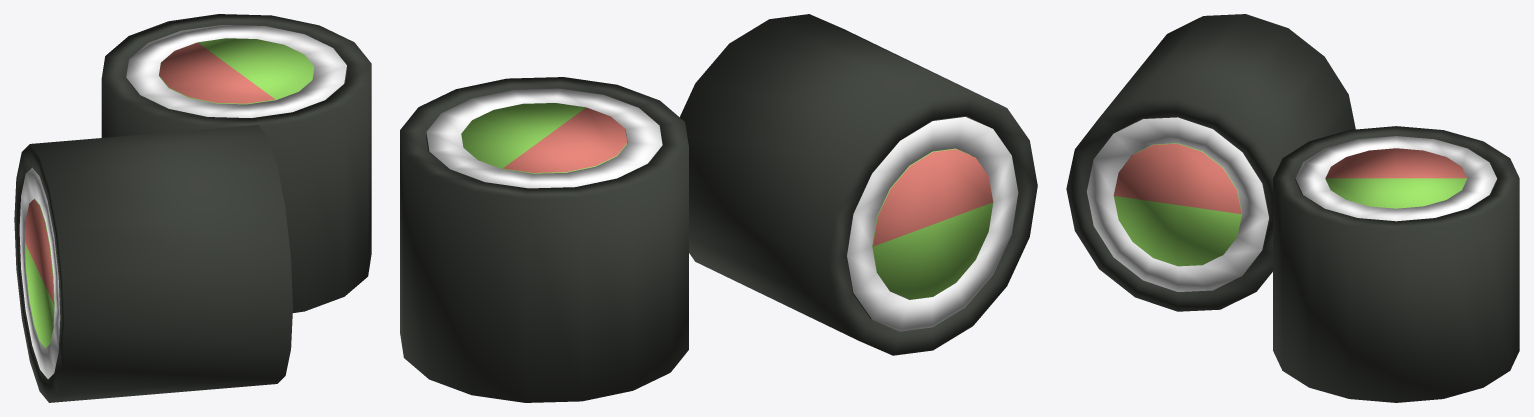
File: Sushi.glb
3 views of the same model, side by side, from view 1: azimuth 30°, elevation 25°; view 2: azimuth 150°, elevation 25°; view 3: azimuth 270°, elevation 25° (orthographic). The views are drawn at different scales.
Visible parts, largest first — view 1: Sushi; view 2: Sushi; view 3: Sushi.
Boxes of the visible parts, x1,y1,x2,y2 form: Sushi: (14,14,371,402); Sushi: (400,14,1037,402); Sushi: (1066,14,1519,402).
Size of the model in its own units: 1.94 by 1.01 by 1.94.
